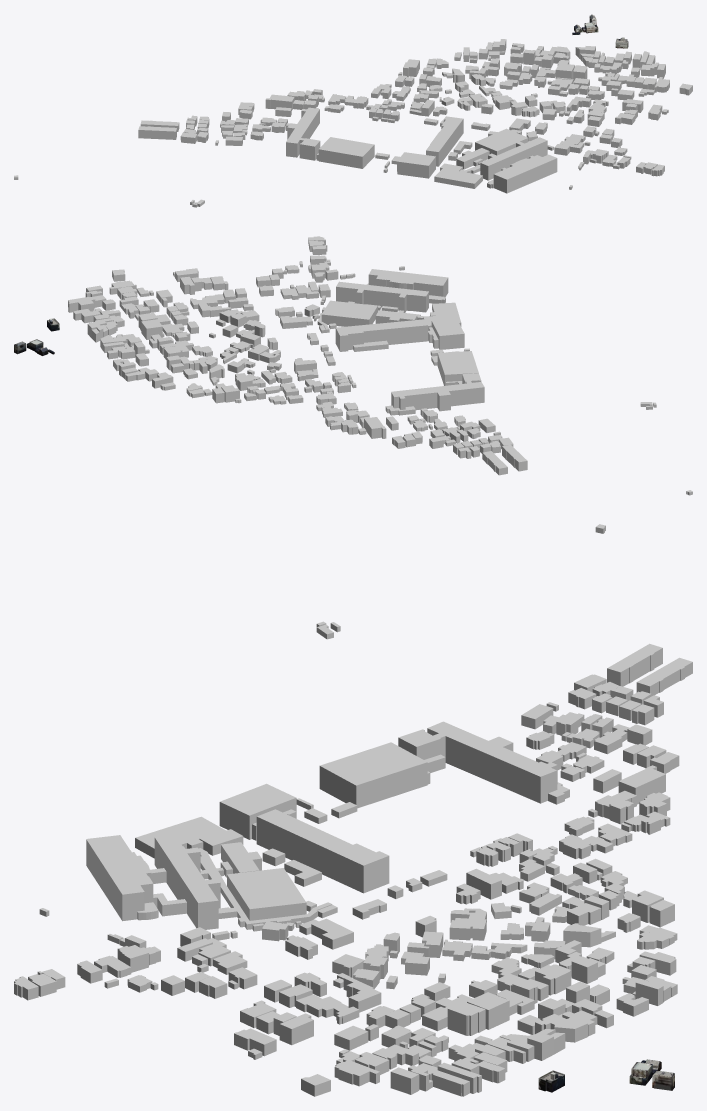
The model's file is 2023-lod3-station-5--1-packed.glb.
The picture shows the model from 3 angles, top to bottom: view 1: azimuth 30°, elevation 25°; view 2: azimuth 150°, elevation 25°; view 3: azimuth 270°, elevation 25°; orthographic projection. The views are drawn at different scales.
Size of the model in its own units: 706 by 18.27 by 361.
Materials: 2 (1 with a texture image).
